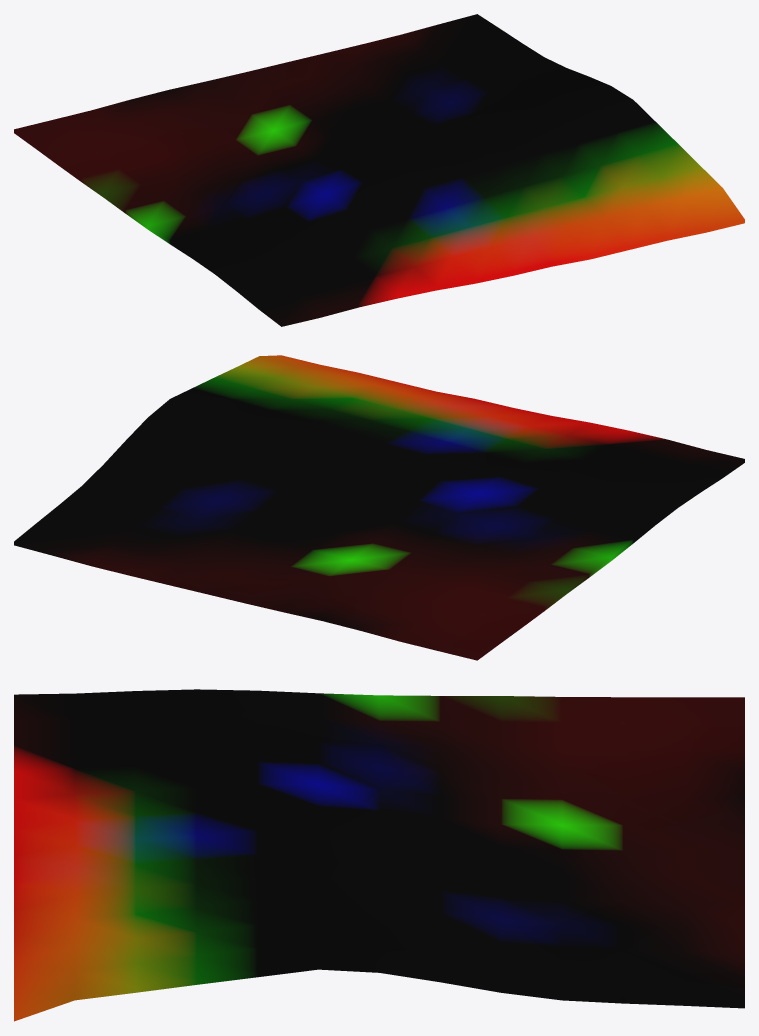
The model's file is coast_0_8.glb.
3 renders of one model, top to bottom at view 1: azimuth 30°, elevation 25°; view 2: azimuth 150°, elevation 25°; view 3: azimuth 270°, elevation 25°, orthographic. The views are drawn at different scales.
Parts seen in each view (by area): view 1: terrain; view 2: terrain; view 3: terrain.
Boxes of the visible parts, bbox=[...] form: terrain: bbox=[14, 14, 744, 326]; terrain: bbox=[14, 355, 744, 660]; terrain: bbox=[14, 689, 744, 1021].
Size of the model in its own units: 192 by 16.55 by 192.
